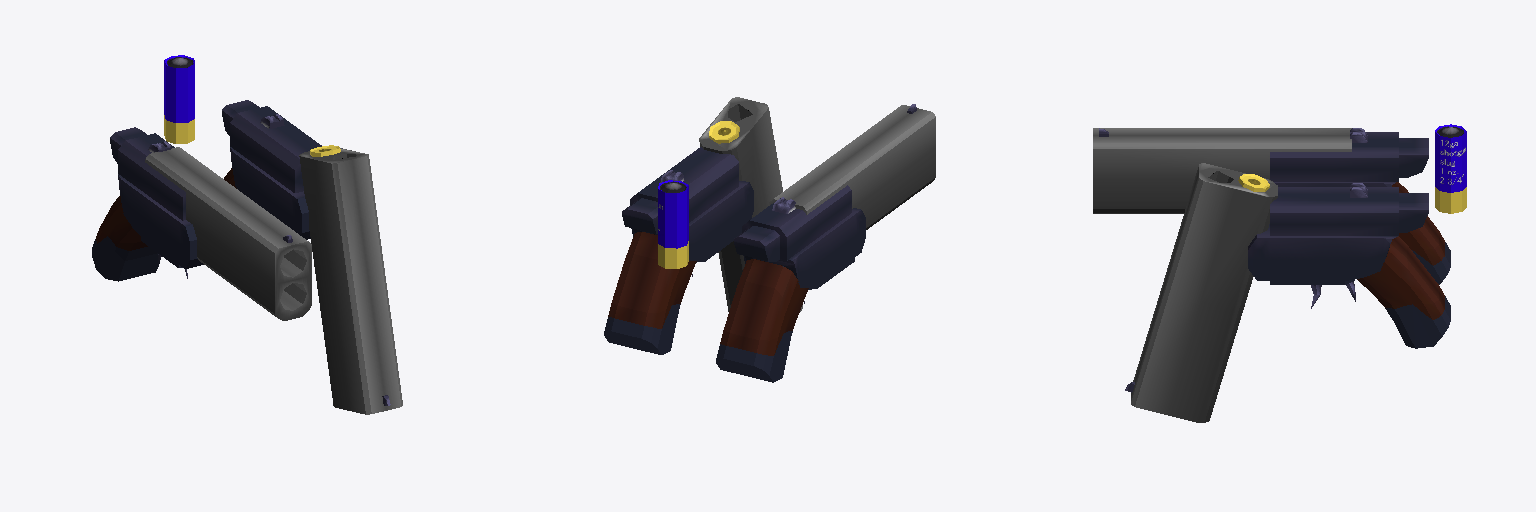
The picture shows the model from 3 angles: view 1: azimuth 30°, elevation 25°; view 2: azimuth 150°, elevation 25°; view 3: azimuth 270°, elevation 25°; orthographic projection.
Visible parts, largest first — view 1: Cylinder; view 2: Cylinder; view 3: Cylinder.
Boxes of the visible parts, box(x1,y1,x2,y2) form: Cylinder: box(92, 55, 402, 414); Cylinder: box(604, 97, 935, 382); Cylinder: box(1093, 124, 1466, 422).
Bounding box in the file's own units: 4.43 × 6.83 × 8.67.
Materials: 1 (1 with a texture image).